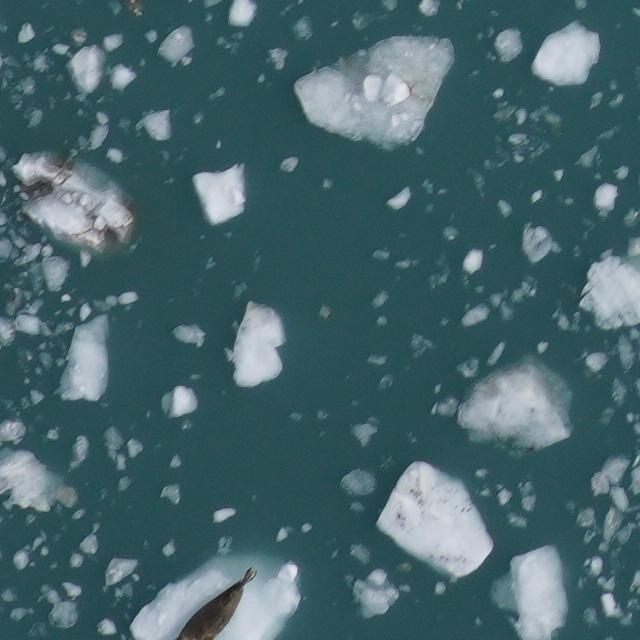seal: (176, 567, 256, 639)
